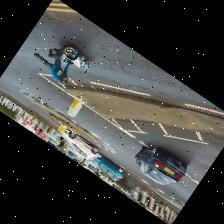person: (34, 48, 72, 83)
